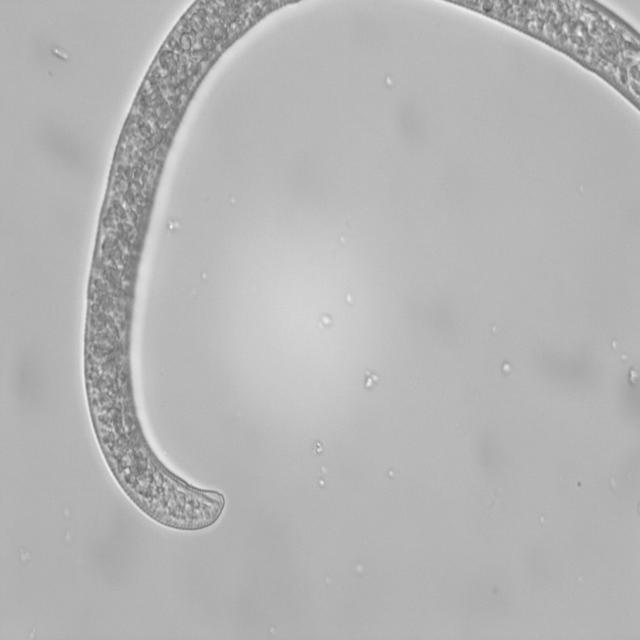Helicotylenchus: (88, 0, 242, 547)
